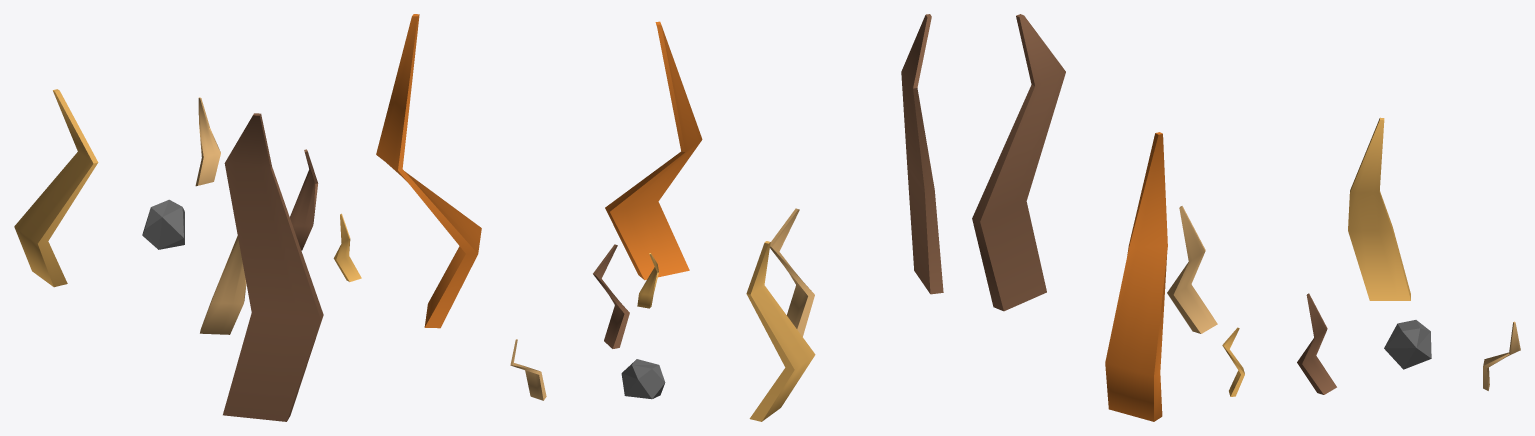
File: Grasswithrock.gltf
3 views of the same model, side by side, from view 1: azimuth 30°, elevation 25°; view 2: azimuth 150°, elevation 25°; view 3: azimuth 270°, elevation 25° (orthographic). The views are drawn at different scales.
Parts seen in each view (by area): view 1: grass2, grass3, grass1, grass4, Hedra001, grass5, grass7, grass6; view 2: grass3, grass2, grass1, grass4, Hedra001, grass5, grass7, grass6; view 3: grass2, grass3, grass1, grass4, Hedra001, grass5, grass7, grass6.
Boxes of the visible parts, x1,y1,x2,y2 form: grass2: (223,113,323,421); grass3: (376,14,481,328); grass1: (14,89,98,287); grass4: (200,236,246,334); Hedra001: (142,199,184,249); grass5: (290,149,318,250); grass7: (195,97,220,186); grass6: (333,213,361,281); grass3: (605,21,702,280); grass2: (901,14,943,294); grass1: (746,241,815,421); grass4: (770,208,814,336); Hedra001: (621,359,665,399); grass5: (593,244,629,348); grass7: (510,339,546,400); grass6: (637,253,658,308); grass2: (972,14,1065,311); grass3: (1105,132,1167,421); grass1: (1348,117,1410,300); grass4: (1167,206,1217,333); Hedra001: (1384,320,1431,369); grass5: (1297,293,1336,394); grass7: (1483,321,1520,390); grass6: (1222,327,1244,396).
Bounding box in the file's own units: 59.34 × 51.71 × 87.5.
